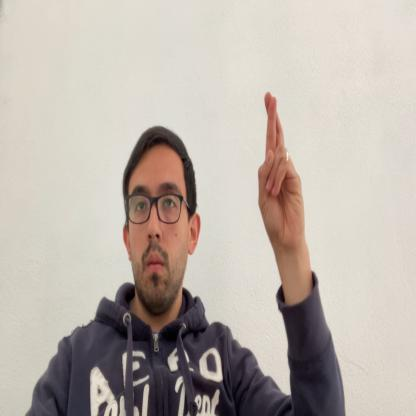R: (258, 90, 306, 257)
